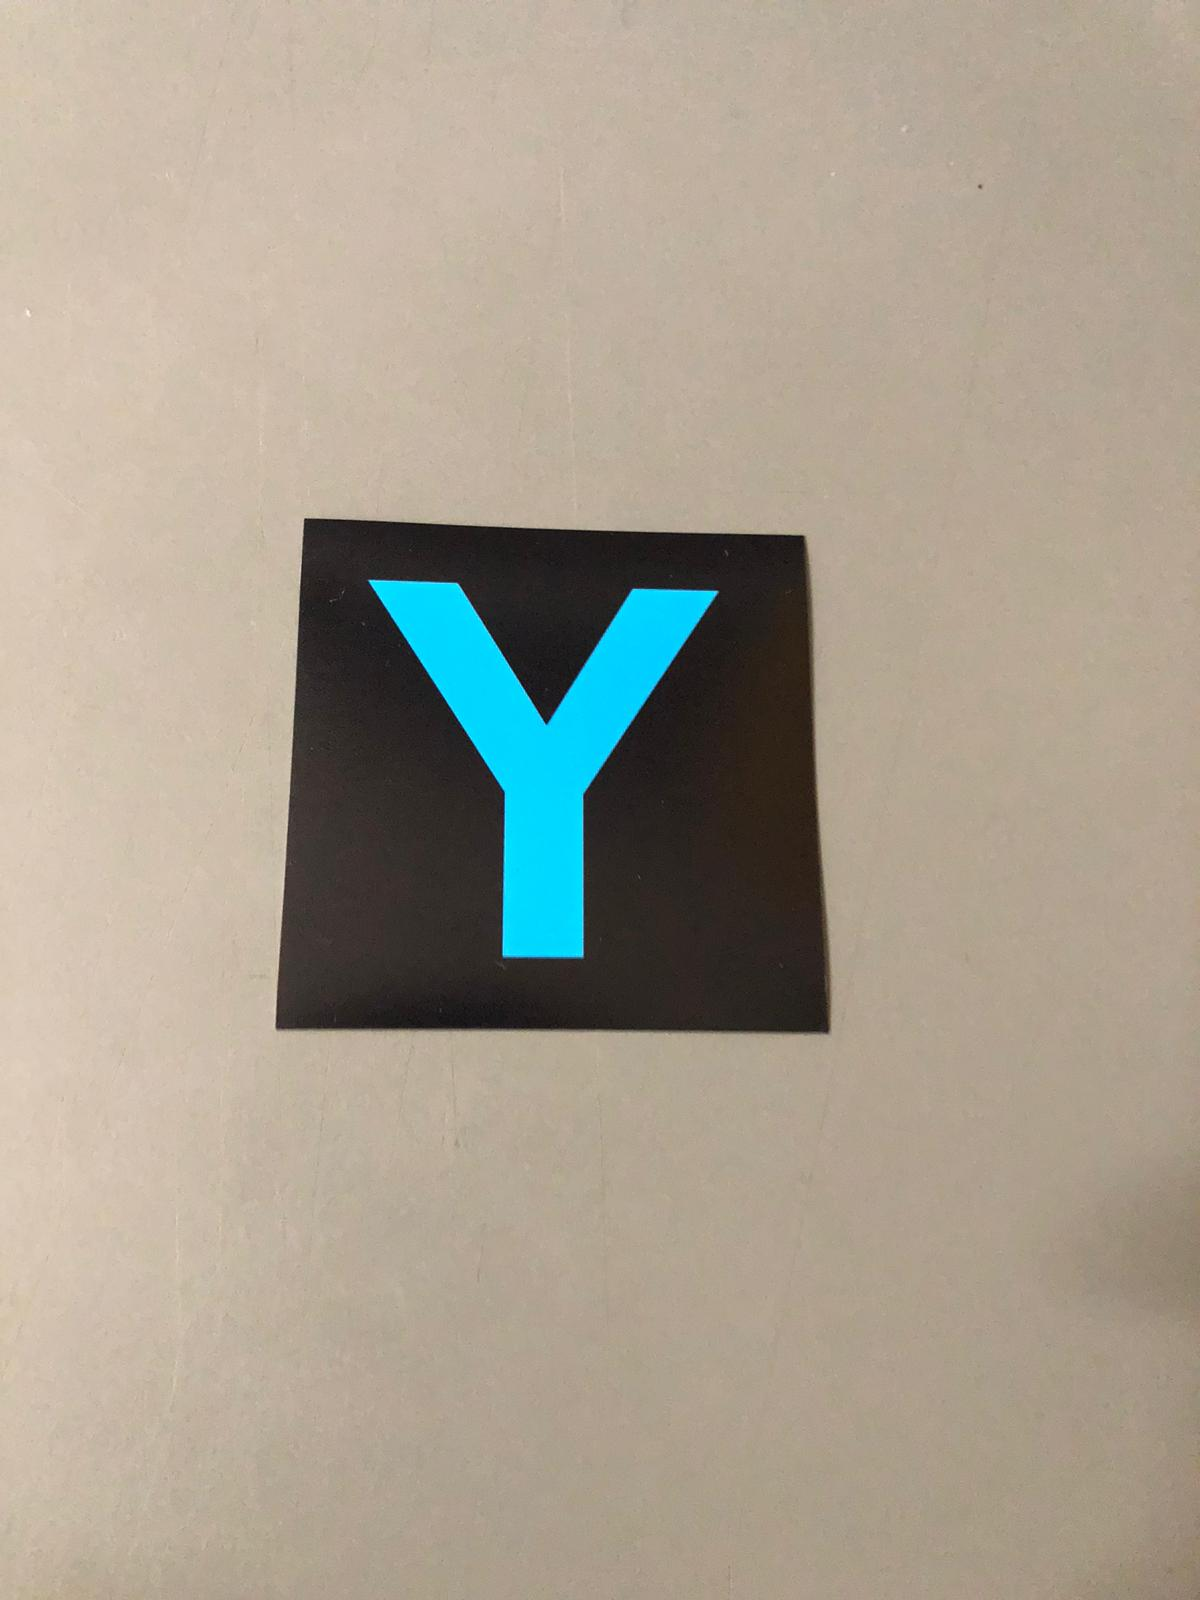Y: (303, 518, 783, 1029)
